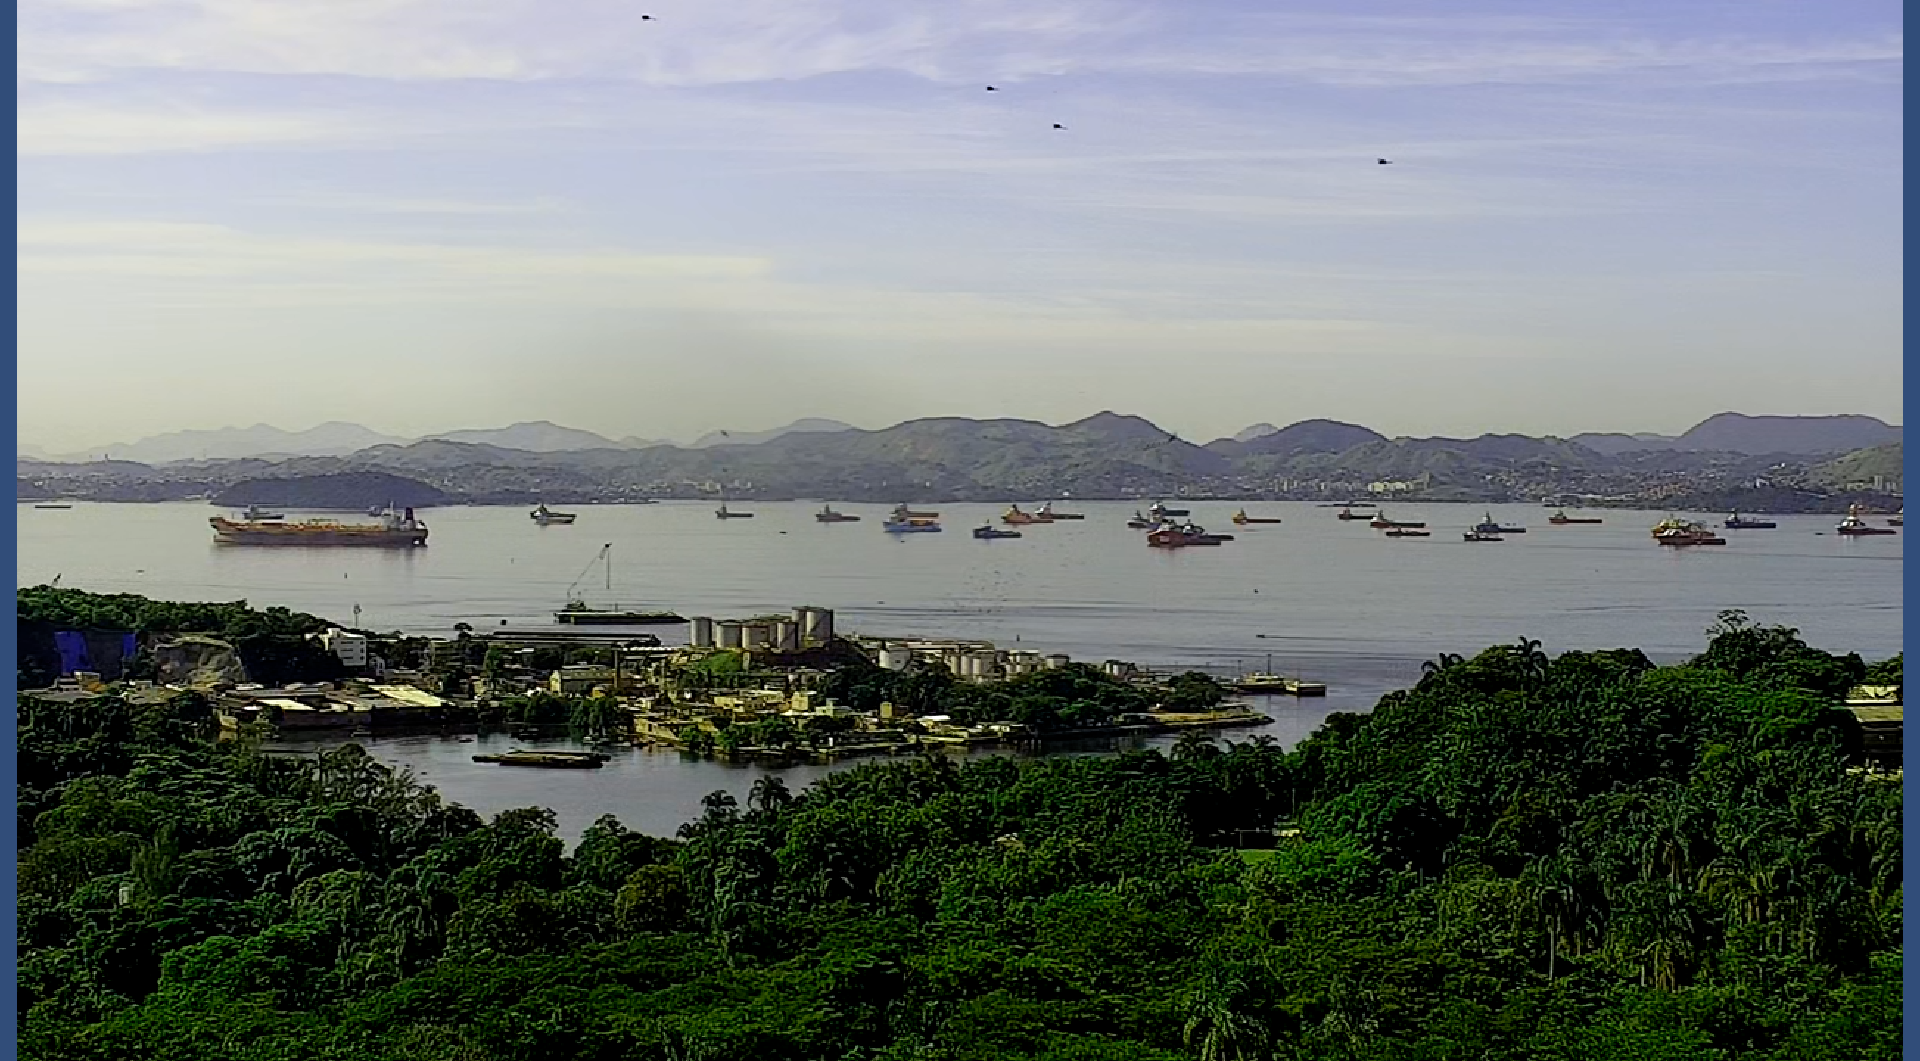Ship2: (205, 511, 435, 549)
Ship5: (1145, 515, 1223, 547), (1654, 519, 1728, 546), (1177, 517, 1237, 542), (999, 498, 1055, 524), (1475, 508, 1529, 534), (879, 511, 943, 533), (1836, 512, 1896, 536), (1723, 506, 1779, 530), (1034, 495, 1085, 521), (1369, 507, 1428, 529), (529, 498, 579, 524), (812, 499, 863, 523), (1544, 506, 1605, 524), (892, 498, 940, 519), (1147, 498, 1192, 519), (972, 520, 1021, 538), (1233, 507, 1284, 524), (242, 502, 285, 520), (1126, 508, 1165, 528), (1462, 524, 1503, 541), (1336, 506, 1381, 520), (716, 502, 755, 517)
